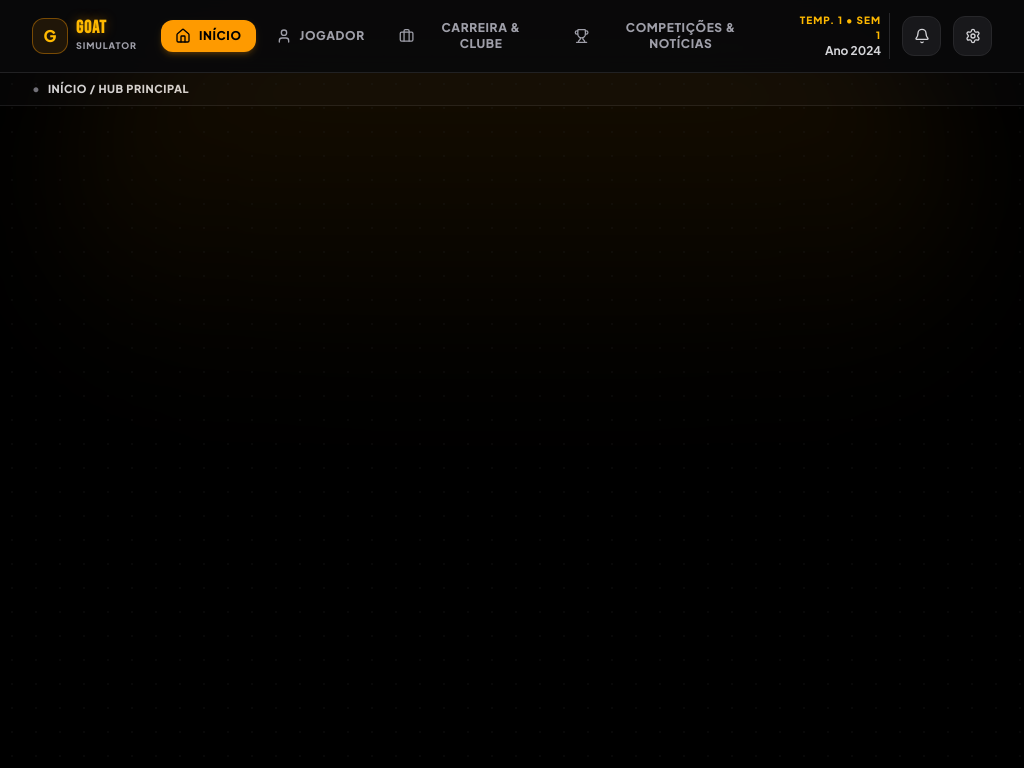
Test: Complete Navigation & Keyboard Shortcuts — GOAT Simulator › navigates through categories and updates sub-nav breadcrumbs
This screenshot has width=1024, height=768.
# Click Jogador category
What coordinates should you click on to do the following:
click the tab "Jogador"
I would click on:
 (320, 36)
Its box is [262, 20, 379, 52].
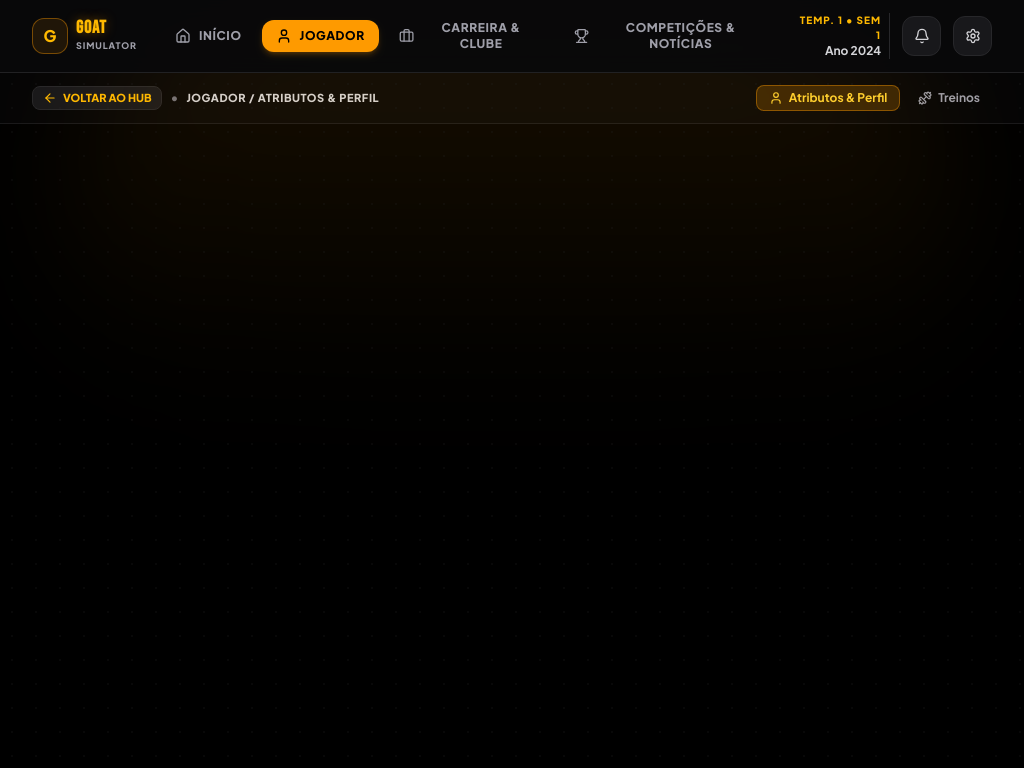
Expected: the text "Jogador / Atributos & Perfil" is shown, [186, 91, 379, 105]
Expected: the text "Treinos" is shown, [938, 90, 980, 106]
# Click Carreira & Clube category
What coordinates should you click on to do the following:
click the tab "Carreira & Clube"
I would click on:
 (470, 36)
Its box is [385, 12, 554, 60].
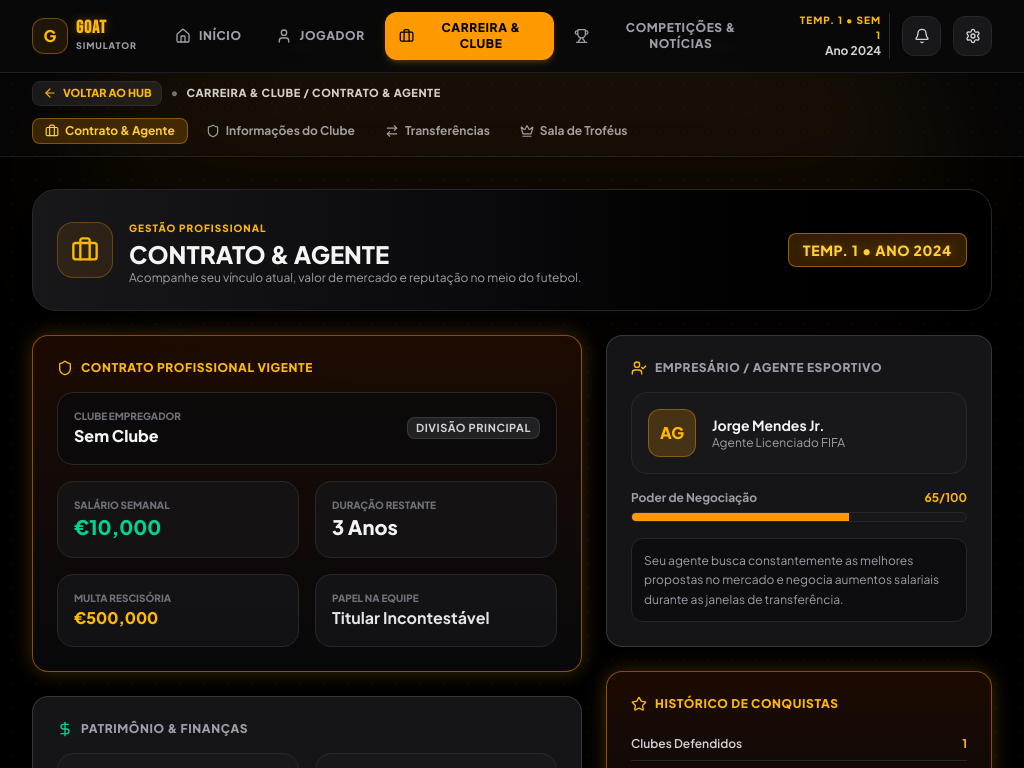
Expected: the text "Carreira & Clube / Contrato & Agente" is shown, [186, 86, 441, 101]
Expected: the text "Informações do Clube" is shown, [226, 123, 355, 139]
Expected: the text "Transferências" is shown, [405, 123, 490, 139]
